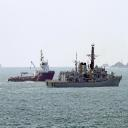Fragata: (46, 44, 124, 90)
